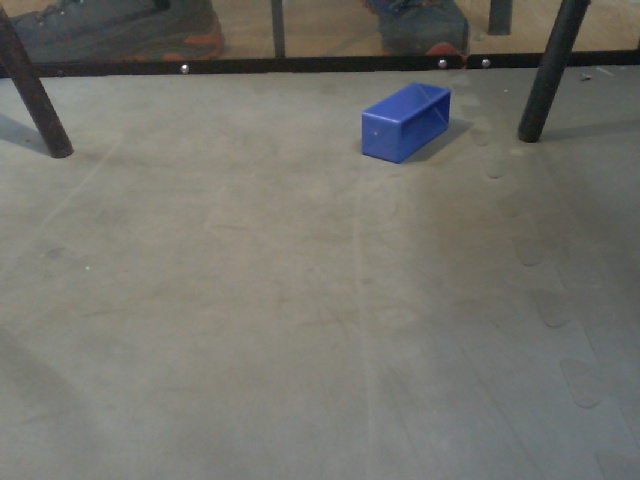BlueSample: (359, 81, 452, 167)
